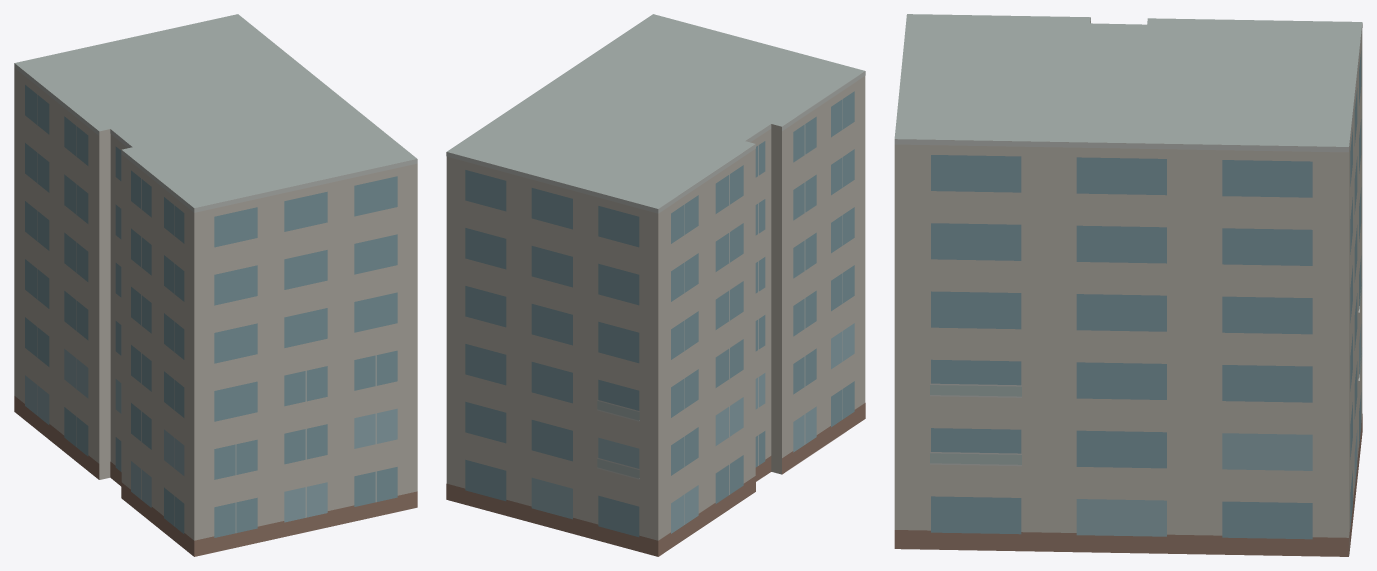
File: survey-upis-33046809.glb
The picture shows the model from 3 angles, left to right: view 1: azimuth 30°, elevation 25°; view 2: azimuth 150°, elevation 25°; view 3: azimuth 270°, elevation 25°; orthographic projection. The views are drawn at different scales.
Visible parts, largest first — view 1: survey-upis-33046809.tmp; view 2: survey-upis-33046809.tmp; view 3: survey-upis-33046809.tmp.
Boxes of the visible parts, bbox=[...] form: survey-upis-33046809.tmp: bbox=[14, 14, 417, 556]; survey-upis-33046809.tmp: bbox=[446, 14, 865, 556]; survey-upis-33046809.tmp: bbox=[894, 14, 1362, 556].
Bounding box in the file's own units: 12.75 × 18.3 × 18.94.
